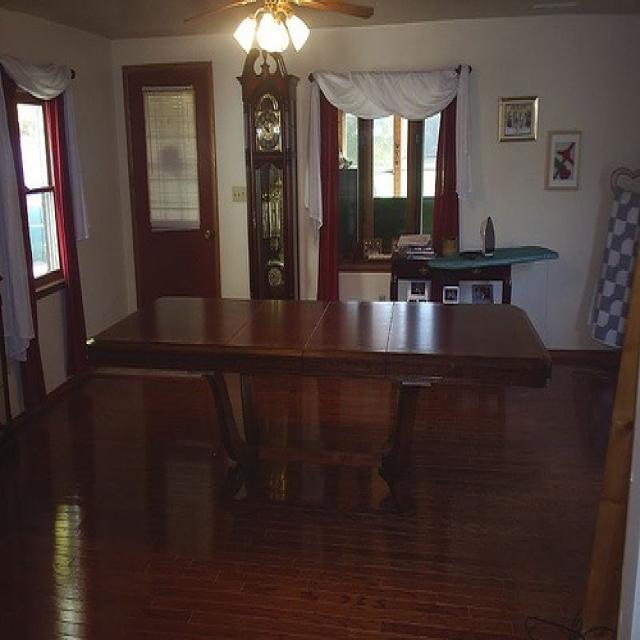Table: (74, 268, 553, 555)
